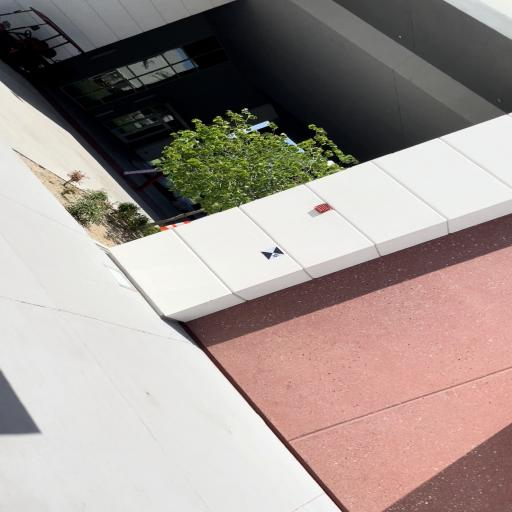target6: (260, 246, 284, 260)
